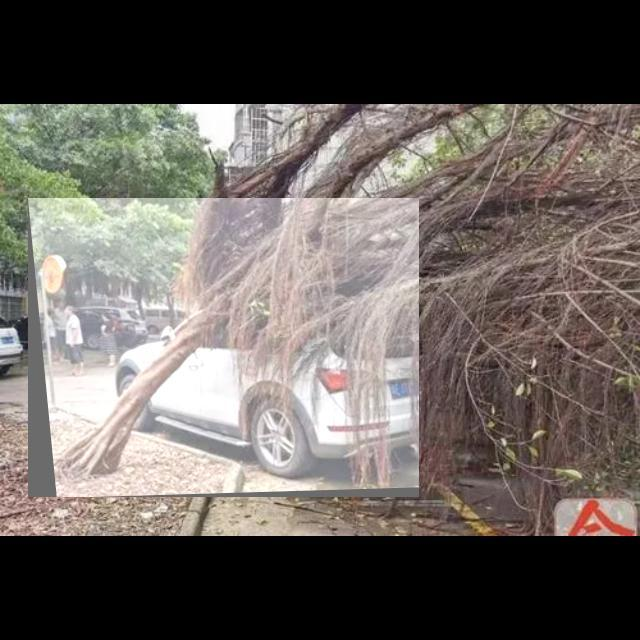fallen_tree: (28, 198, 420, 498)
